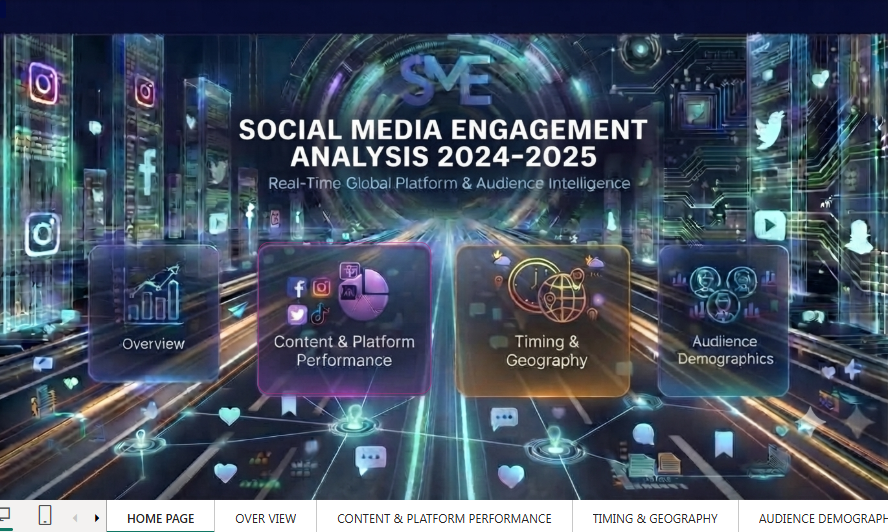

This screenshot's page, from the dashboard's own definition file:
{"tool":"powerbi","page":{"name":"HOME PAGE","canvas":[1920,1080],"ordinal":0},"visuals":[{"type":"actionButton","box":[0,0,13,40.3],"z":0},{"type":"actionButton","box":[194.4,522.7,287.3,306.7],"z":1000},{"type":"actionButton","box":[194.4,522.7,287.3,306.7],"z":2000},{"type":"actionButton","box":[557.3,522.7,373.7,328.3],"z":3000},{"type":"actionButton","box":[1423.4,522.7,278.6,328.3],"z":4000},{"type":"actionButton","box":[987.1,522.7,378,328.3],"z":5000}]}

Visuals, with their boxes on the page's 1920x1080 design canvas (x1, y1, x2, y2). These are canvas units, not pixel positions in the 888x532 screenshot, which may show the page scaled, cropped or inside an application window:
actionButton: l=0, t=0, r=13, b=40
actionButton: l=194, t=523, r=482, b=829
actionButton: l=194, t=523, r=482, b=829
actionButton: l=557, t=523, r=931, b=851
actionButton: l=1423, t=523, r=1702, b=851
actionButton: l=987, t=523, r=1365, b=851
